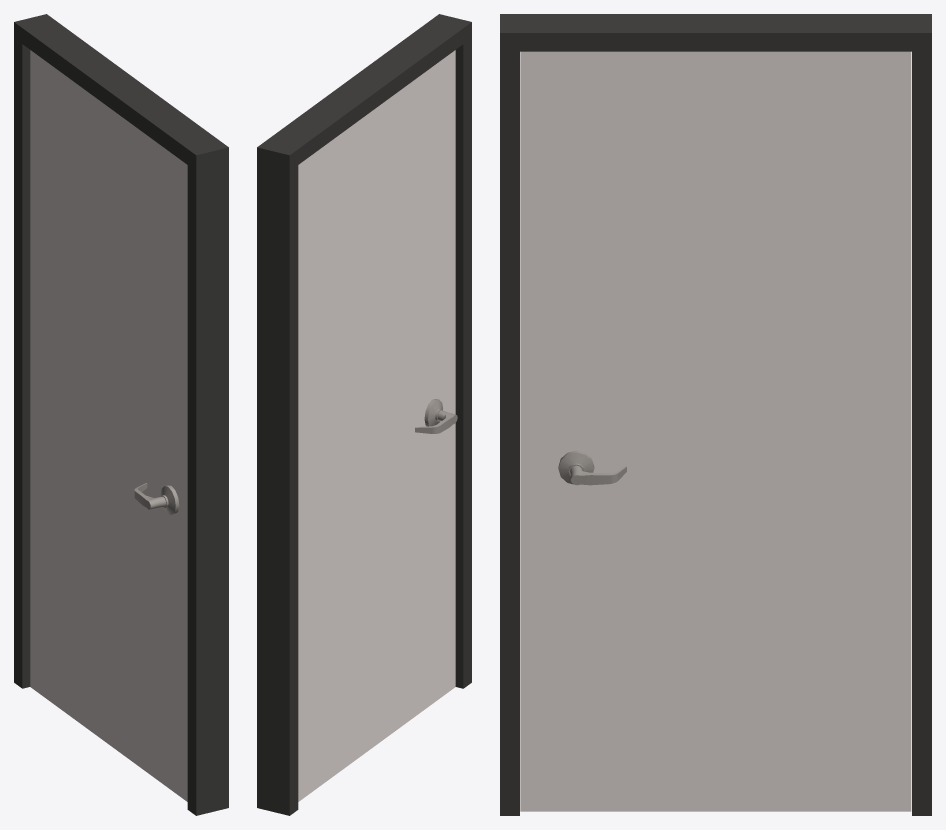
File: Bathroom_Door.fbx
The picture shows the model from 3 angles, left to right: view 1: azimuth 30°, elevation 25°; view 2: azimuth 150°, elevation 25°; view 3: azimuth 270°, elevation 25°; orthographic projection. The views are drawn at different scales.
Visible parts, largest first — view 1: Bathroom_Door; view 2: Bathroom_Door; view 3: Bathroom_Door.
Part boxes in pixels (x1,y1,x2,y2): Bathroom_Door: (14,14,228,815); Bathroom_Door: (257,14,471,815); Bathroom_Door: (500,14,931,815).
Bounding box in the file's own units: 21.53 × 213 × 107.
